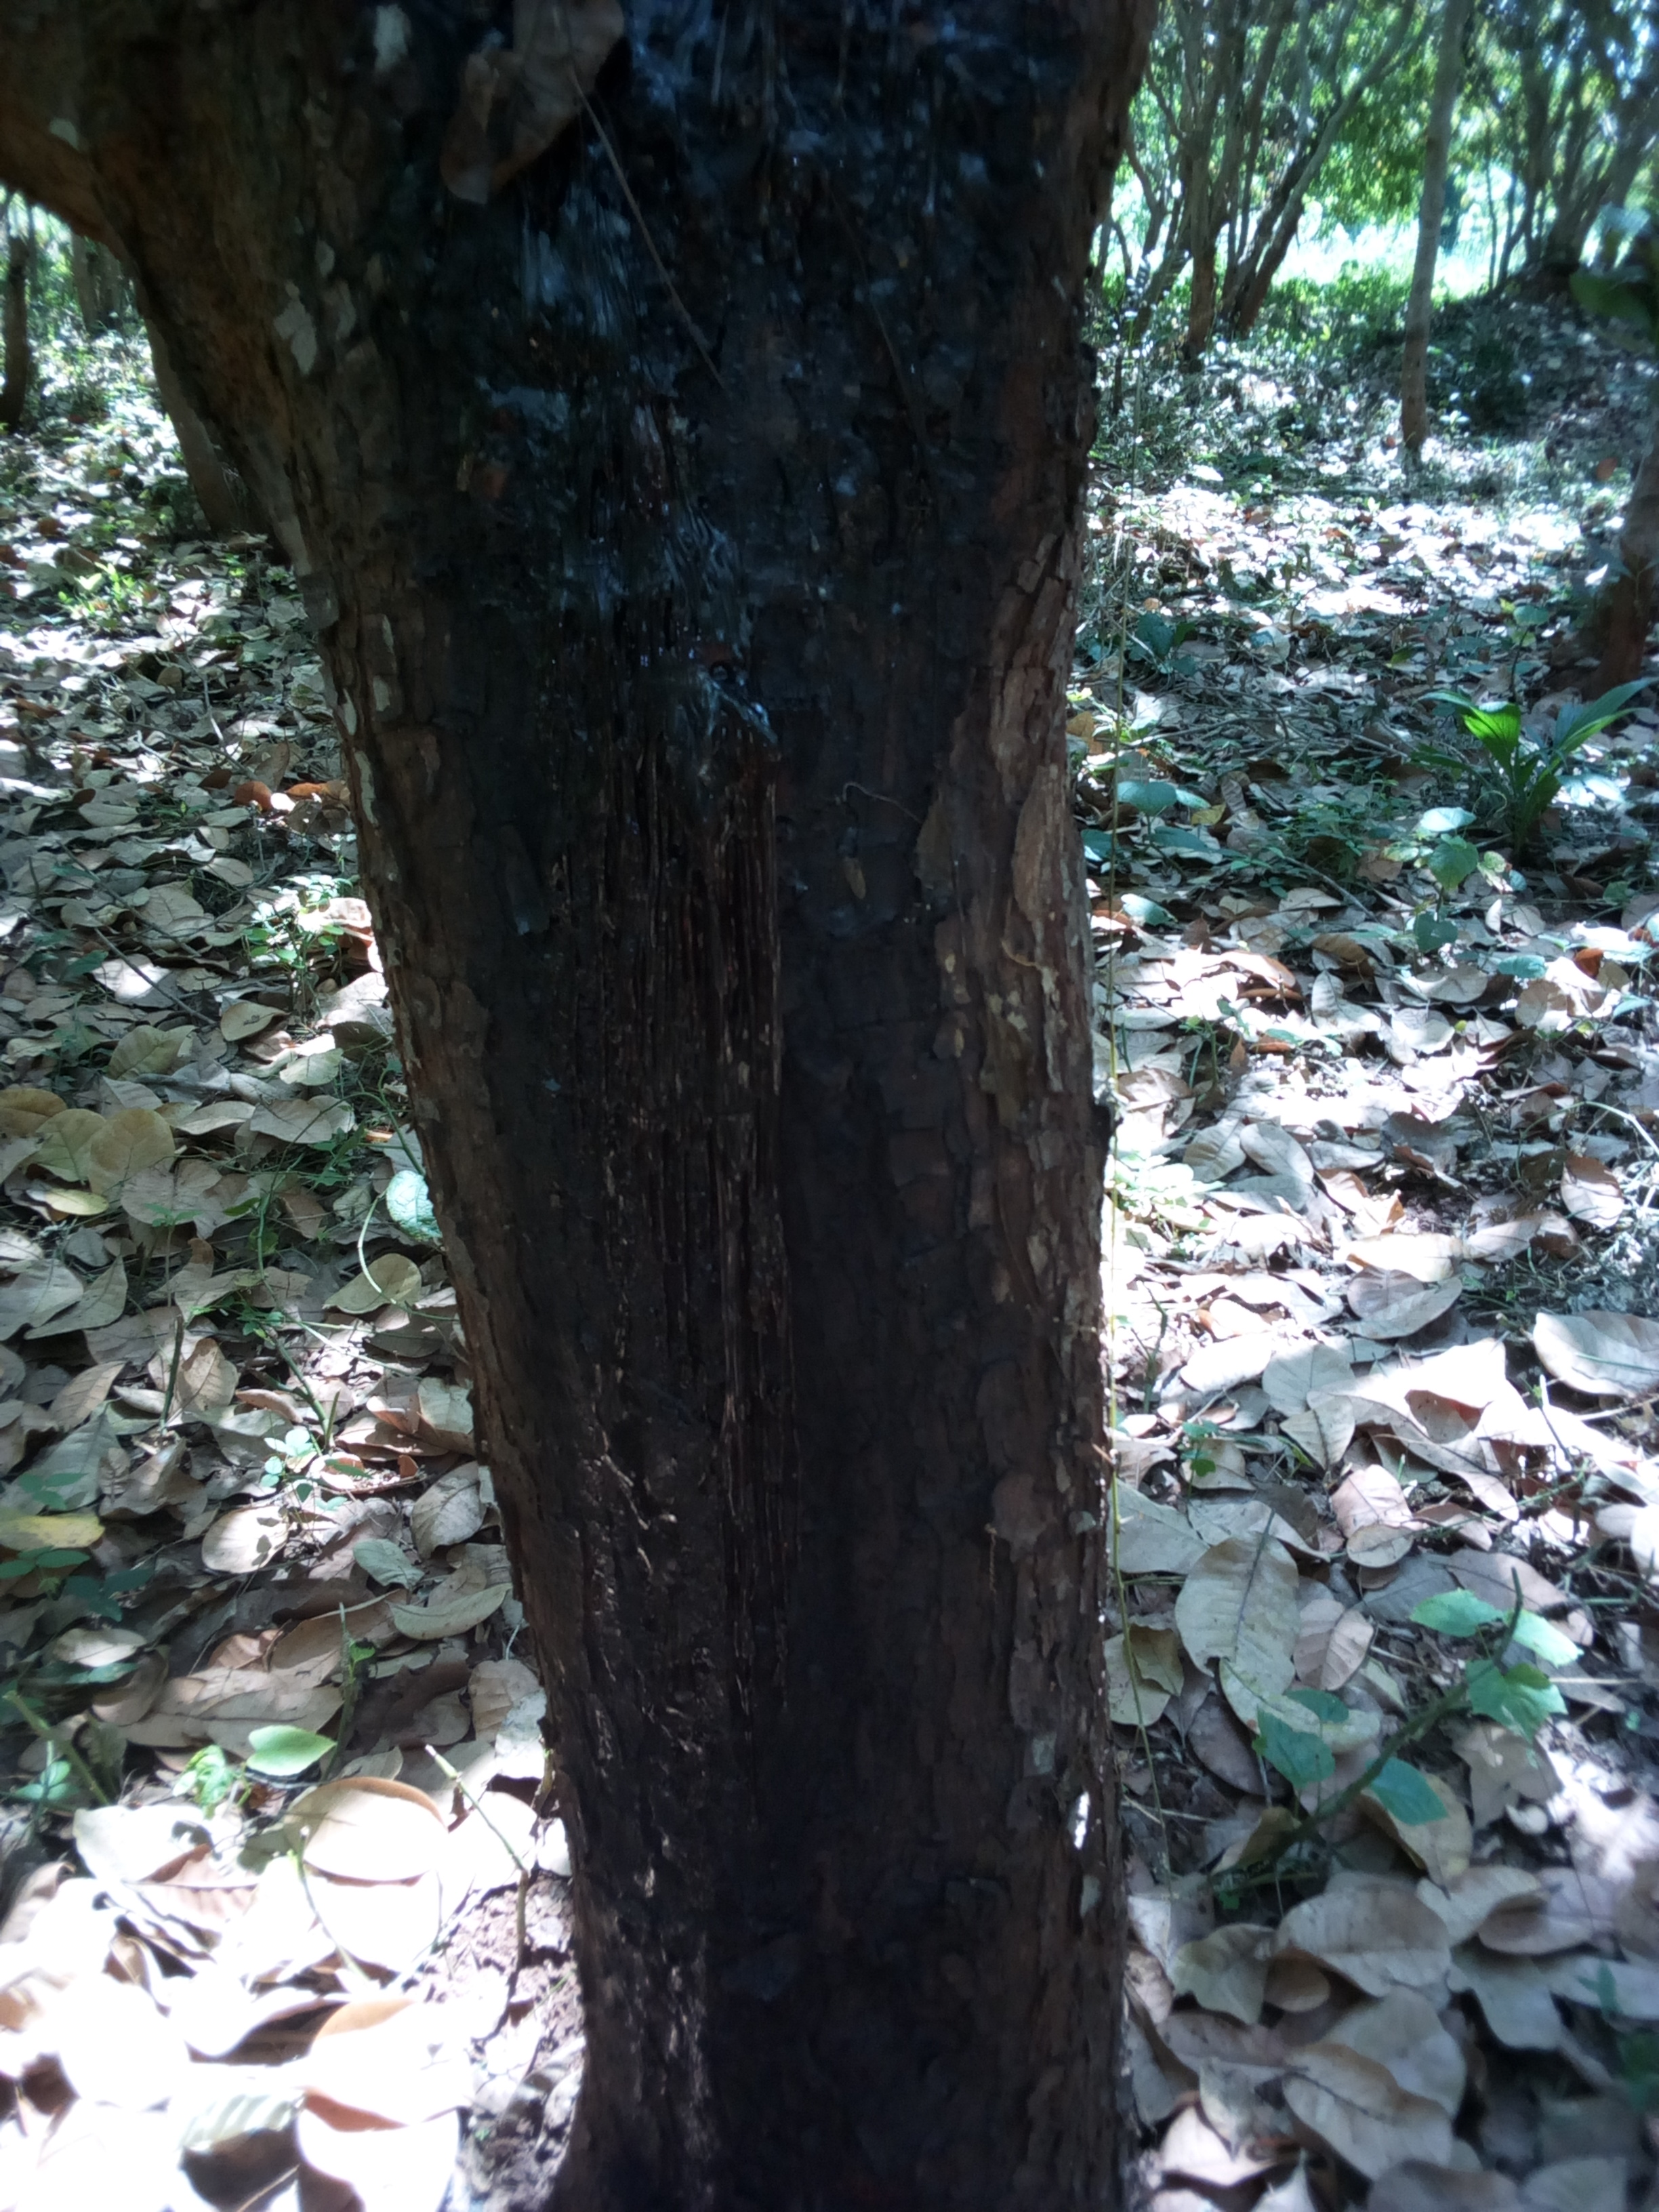Gommose: (413, 19, 1023, 2139)
